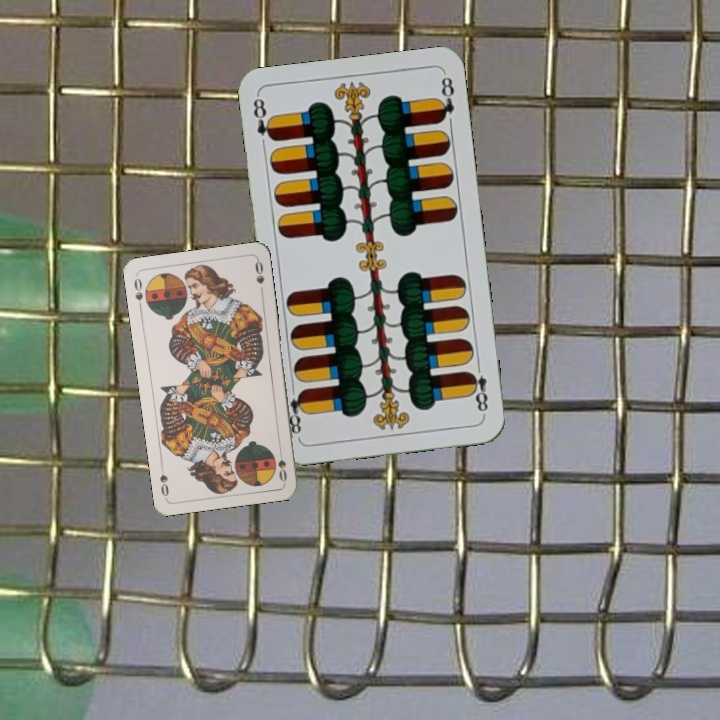E8: (465, 359, 490, 418), (249, 93, 277, 143)
SO: (274, 443, 289, 484), (130, 274, 145, 313)
